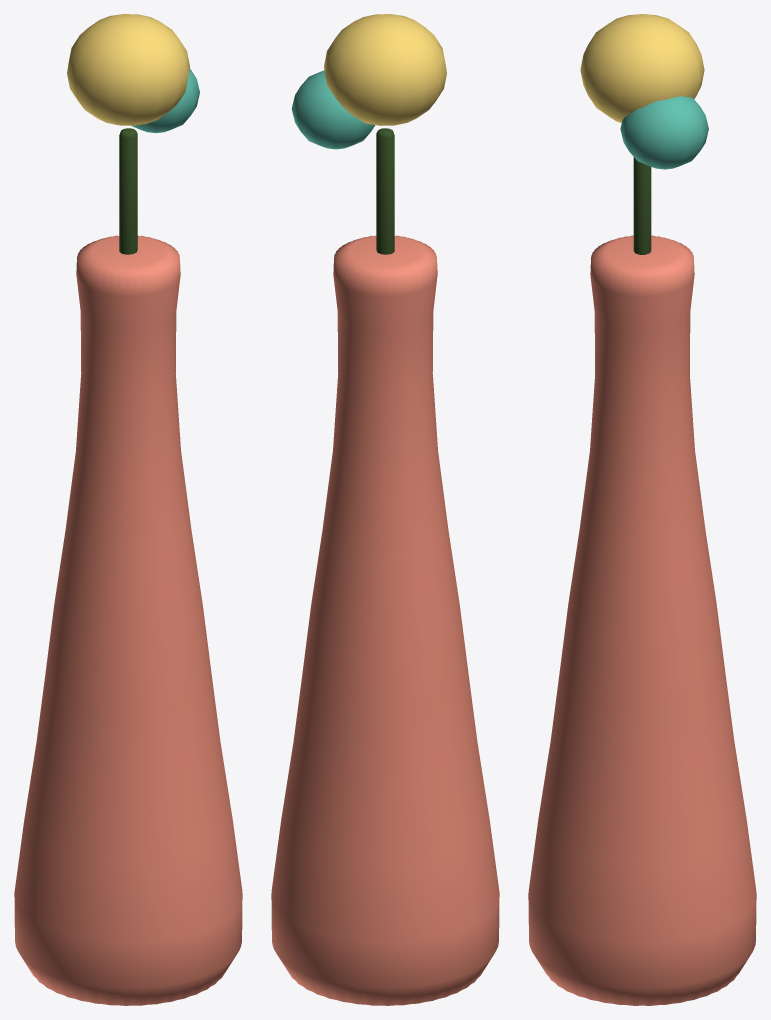
File: vase_b.glb
The picture shows the model from 3 angles, left to right: view 1: azimuth 30°, elevation 25°; view 2: azimuth 150°, elevation 25°; view 3: azimuth 270°, elevation 25°; orthographic projection.
Parts seen in each view (by area): view 1: body; view 2: body; view 3: body.
Part boxes in pixels (x1=…): body: x1=14, y1=14, x2=242, y2=1005; body: x1=271, y1=14, x2=499, y2=1005; body: x1=528, y1=14, x2=756, y2=1005.
Bounding box in the file's own units: 0.1029 × 0.475 × 0.1029.
